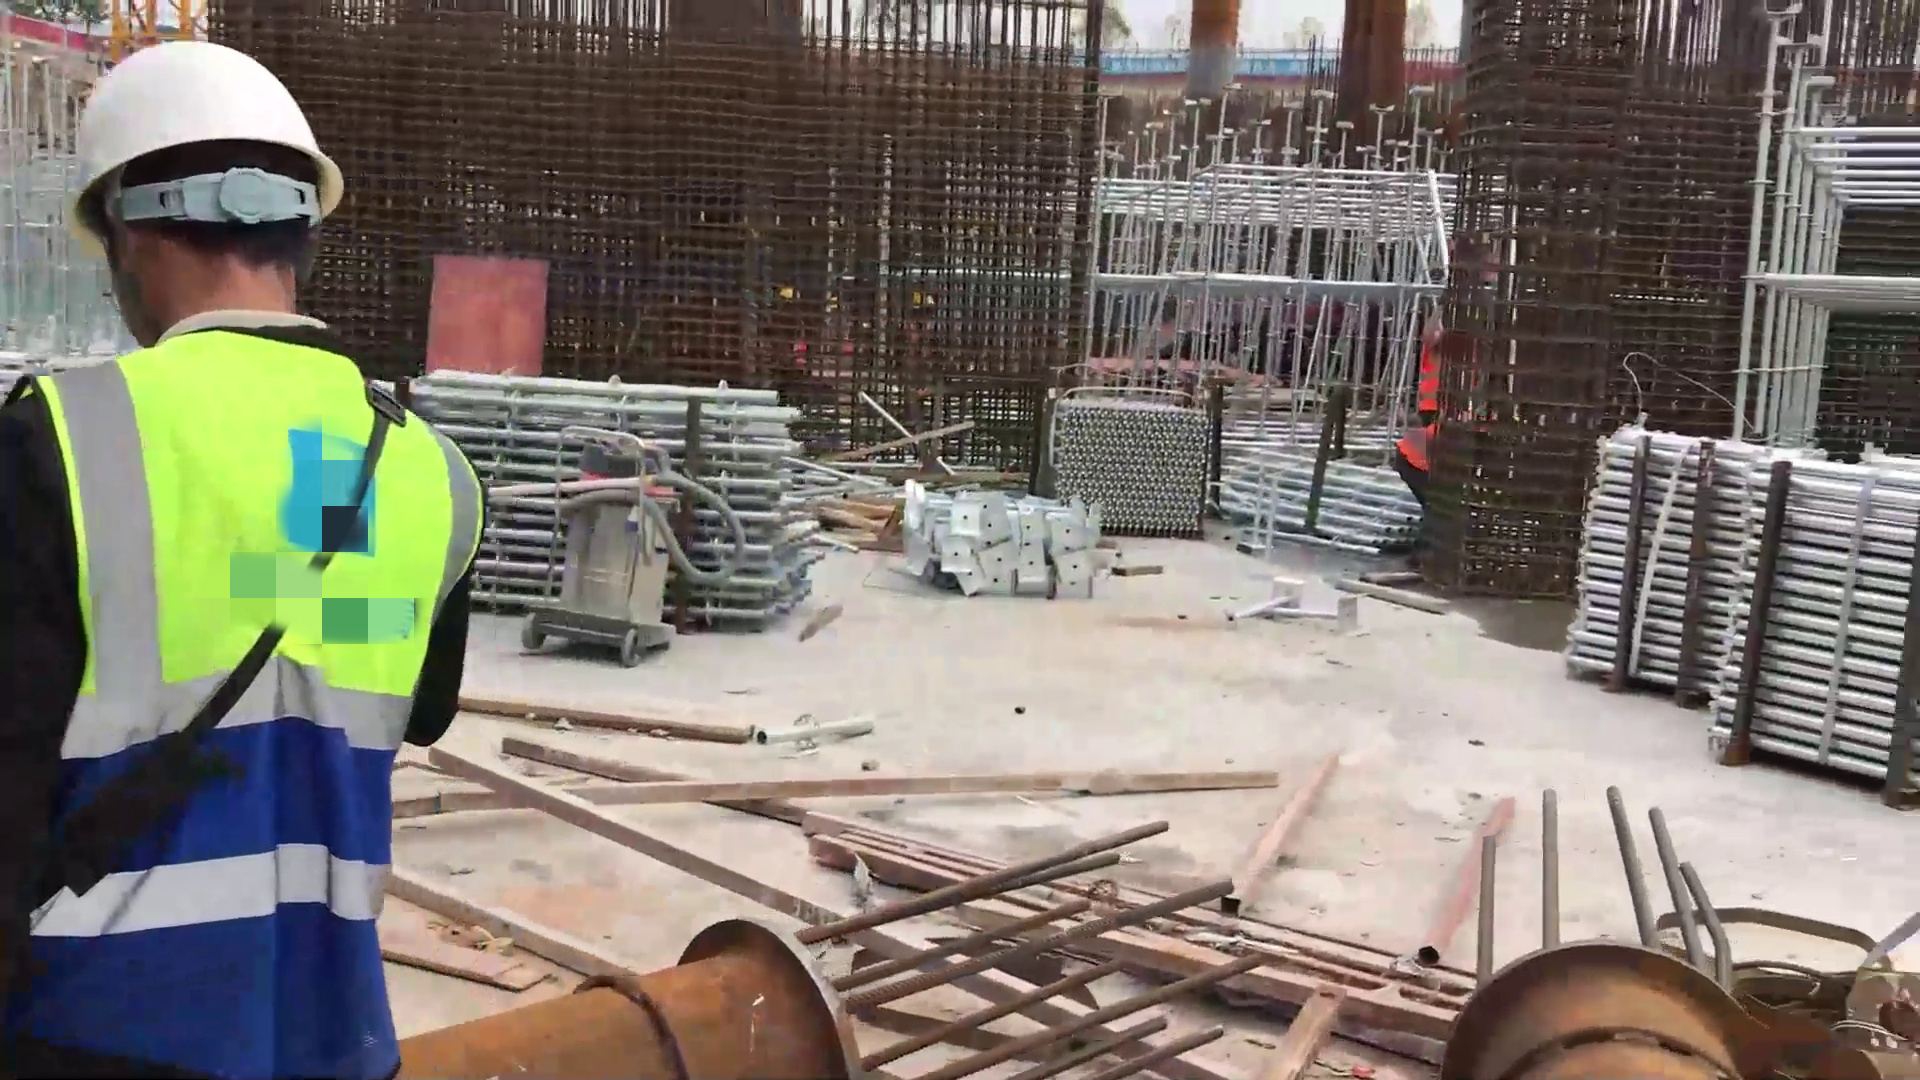fence: (1076, 46, 1472, 98)
helmet: (66, 44, 352, 214)
person: (15, 37, 477, 1080), (1417, 284, 1493, 596)
scaffold: (1566, 405, 1920, 790), (418, 363, 815, 614), (1049, 404, 1219, 542), (1227, 446, 1425, 555)
slogan: (1091, 50, 1333, 84)
vest: (25, 327, 483, 1080), (1399, 345, 1481, 462)
